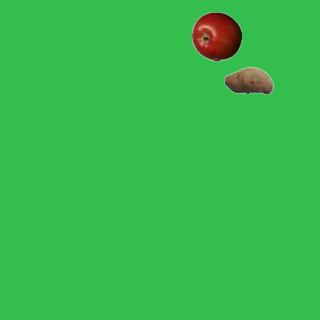Apple Braeburn: (191, 11, 241, 61)
Potato Sweet: (223, 55, 273, 105)
